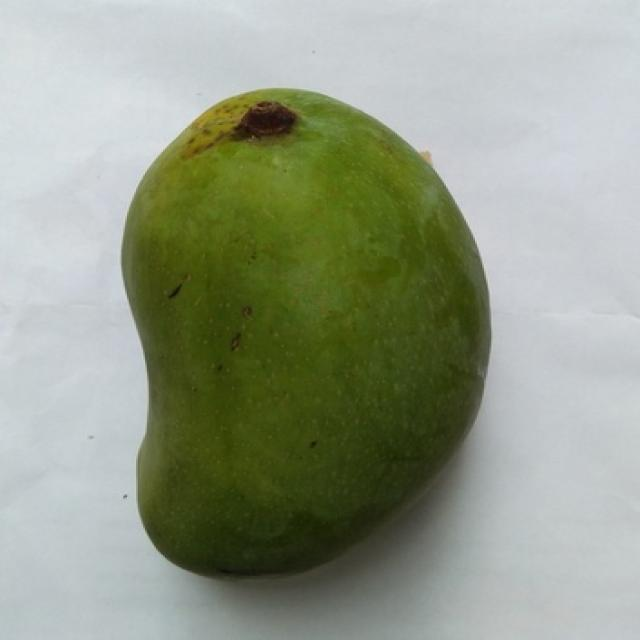Mango: (125, 89, 488, 575)
